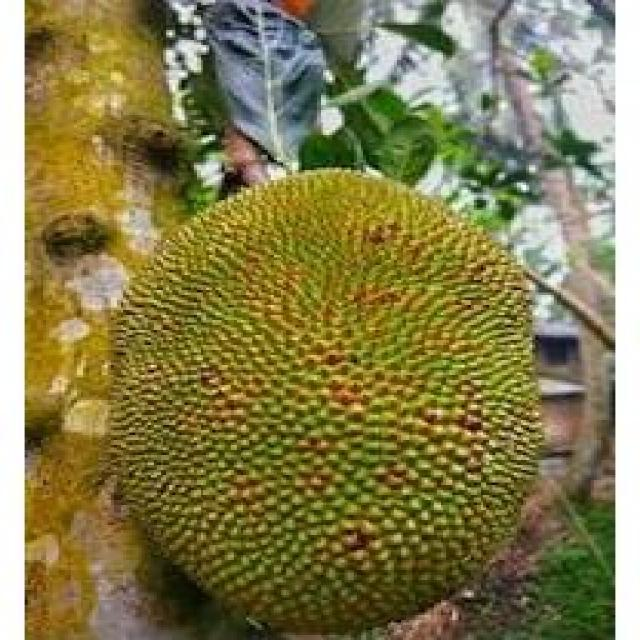Fruit: (206, 237, 578, 640)
